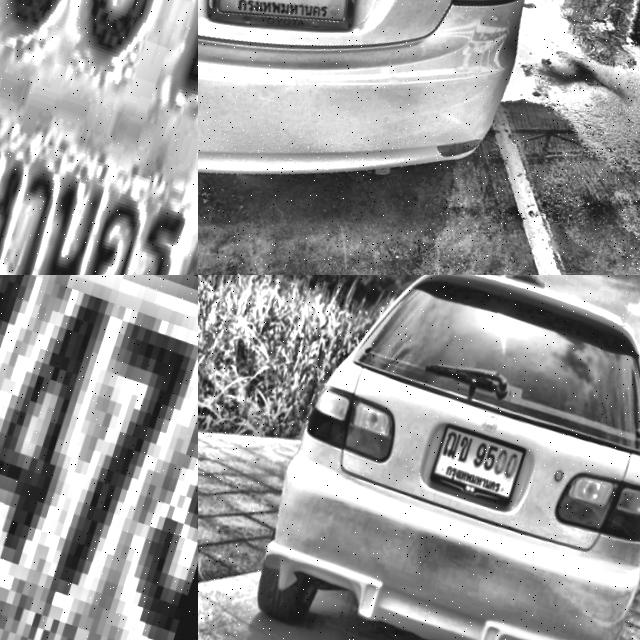license-plate: (0, 275, 198, 640), (0, 0, 198, 275), (198, 0, 379, 64), (427, 414, 533, 508)
